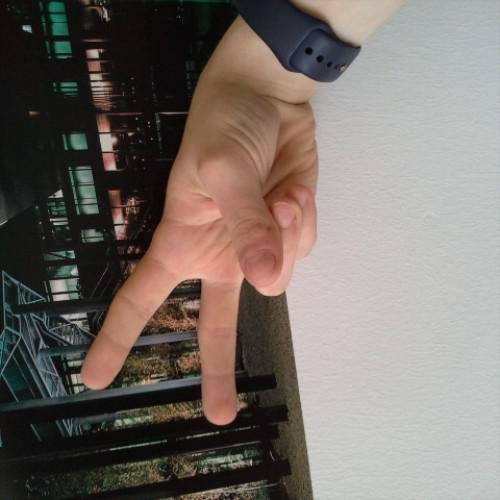scissors: (77, 70, 329, 436)
